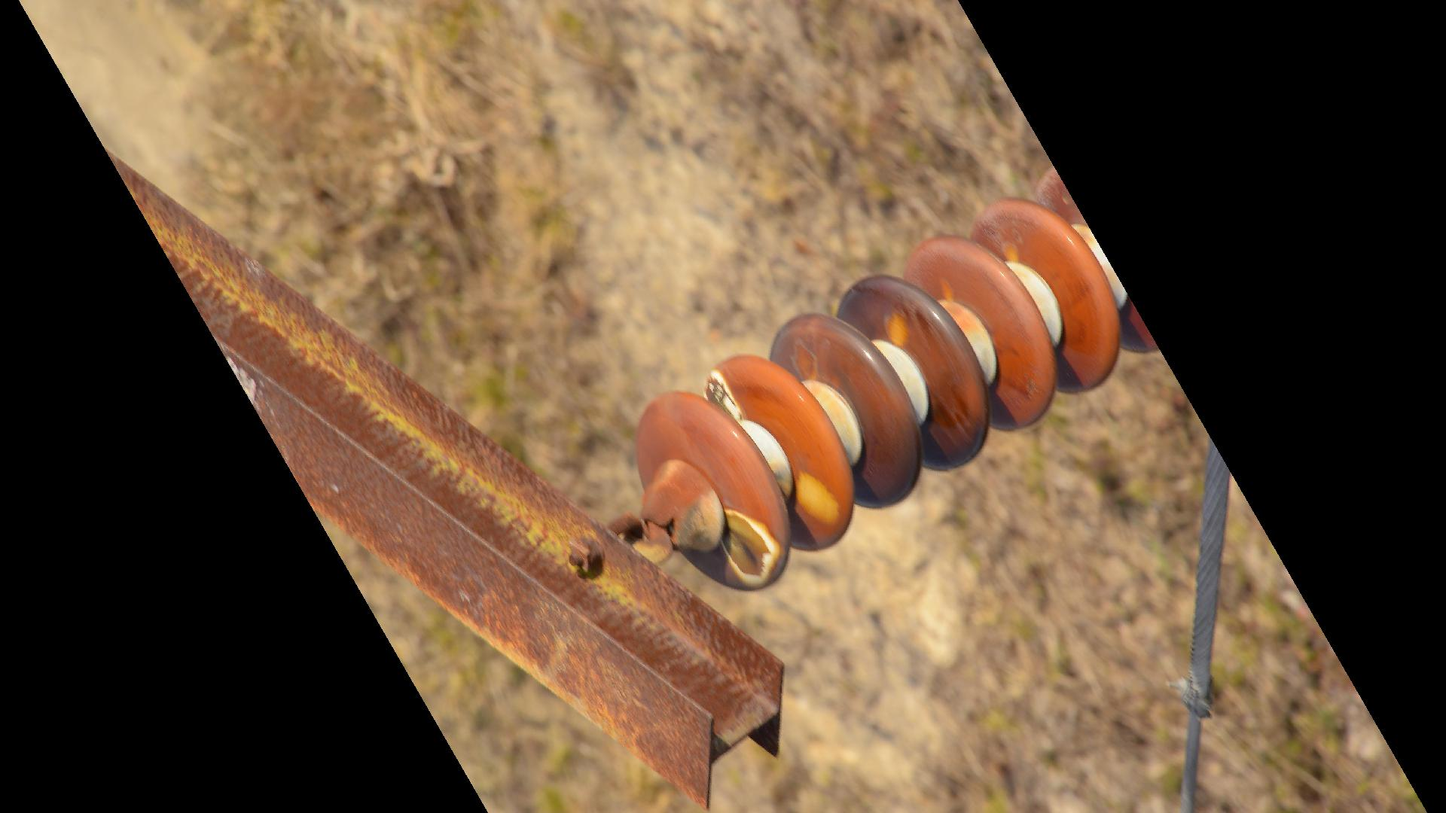insulator: (629, 163, 1160, 595)
insulator_flashover: (718, 507, 780, 587), (792, 469, 841, 530), (700, 367, 748, 422), (785, 338, 819, 383), (880, 306, 911, 347)
